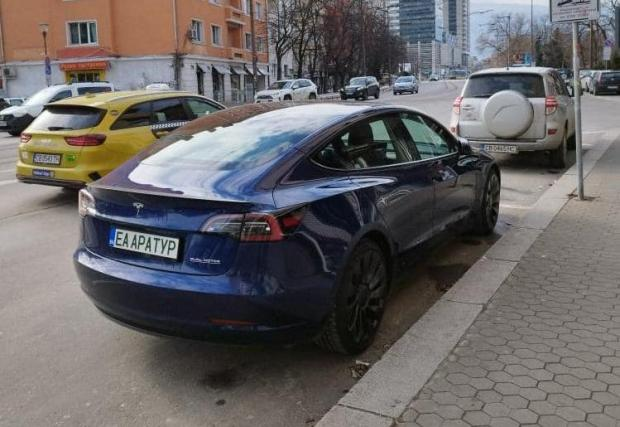registration_plate: (108, 225, 181, 261), (31, 151, 63, 166), (481, 143, 521, 154)
